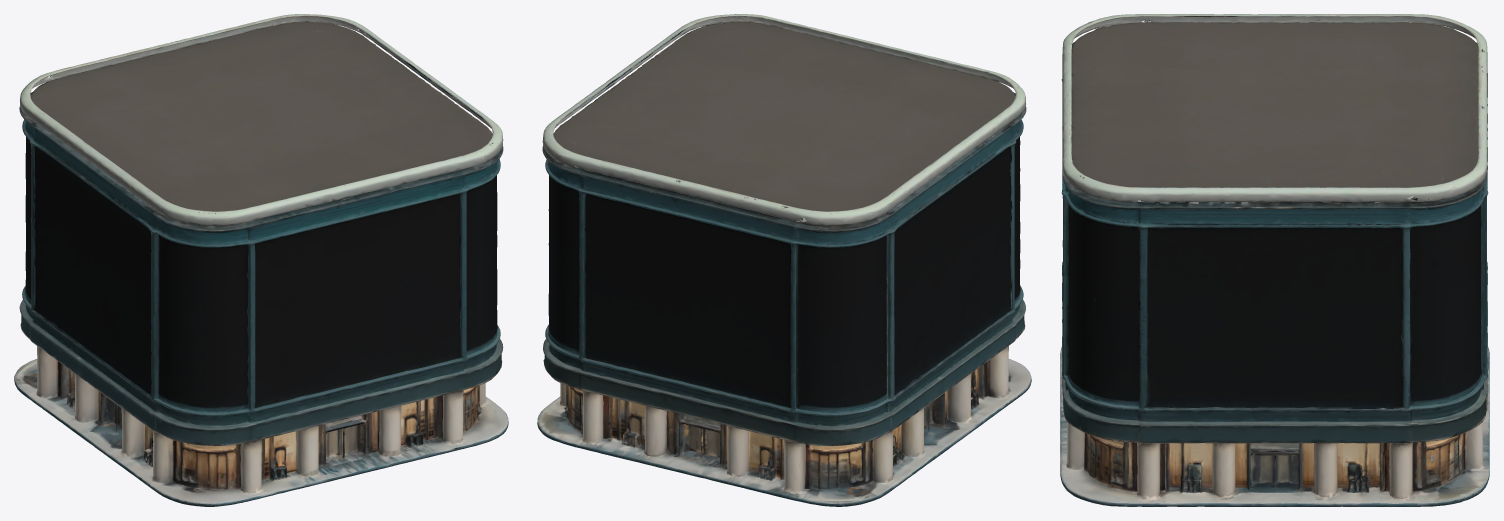
Rendered from bb_screen_tower.glb.
The picture shows the model from 3 angles, left to right: view 1: azimuth 30°, elevation 25°; view 2: azimuth 150°, elevation 25°; view 3: azimuth 270°, elevation 25°; orthographic projection. The views are drawn at different scales.
Size of the model in its own units: 1 by 0.8078 by 0.9966.
1 material, 1 textured.
